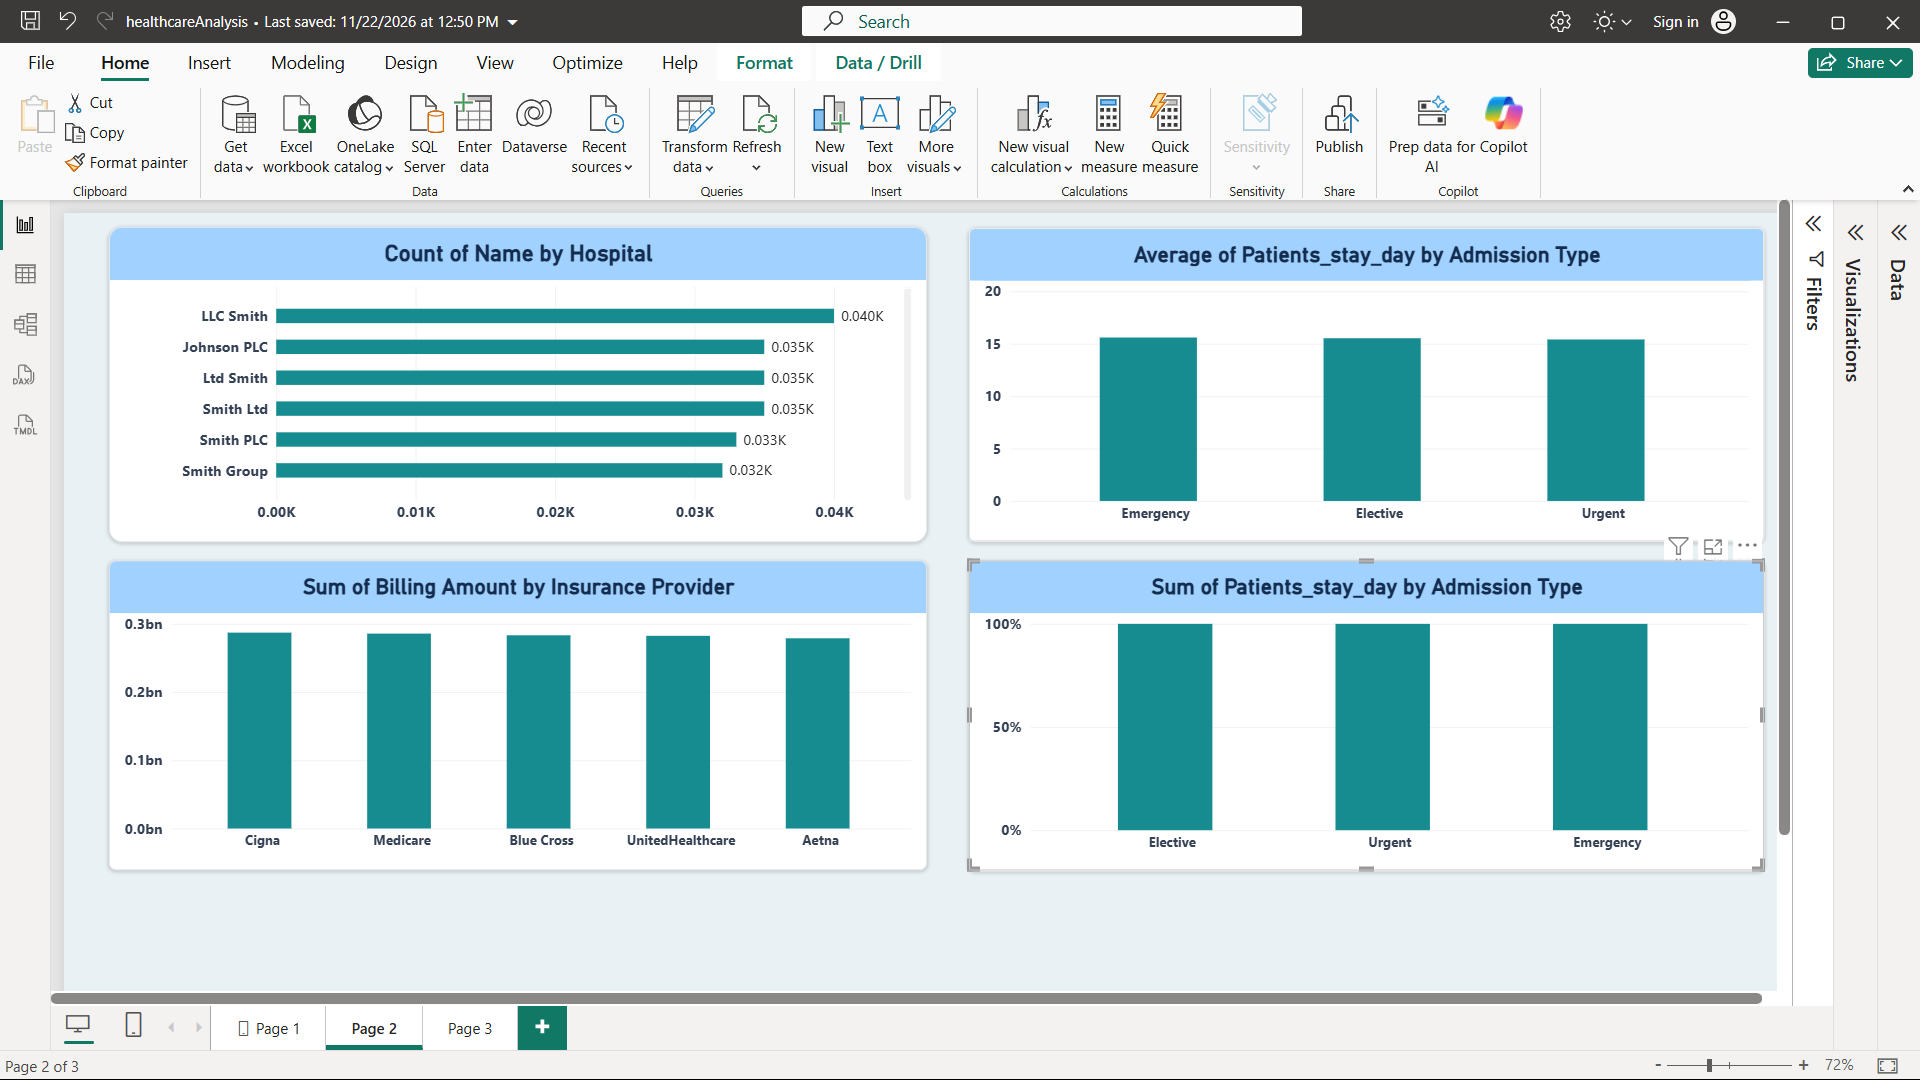

This screenshot's page, from the dashboard's own definition file:
{"tool":"powerbi","page":{"name":"Page 2","canvas":[1920,1080],"ordinal":1},"visuals":[{"type":"barChart","fields":{"Category":["healthcare_dataset.Hospital"],"Y":["Count(healthcare_dataset.Name)"]},"box":[50.6,15.7,908.7,350.6],"z":0},{"type":"clusteredColumnChart","fields":{"Category":["healthcare_dataset.Insurance Provider"],"Y":["Sum(healthcare_dataset.Billing Amount)"]},"box":[50.6,385.5,908.7,343.6],"z":1},{"type":"hundredPercentStackedColumnChart","fields":{"Category":["healthcare_dataset.Admission Type"],"Y":["Sum(healthcare_dataset.Patients_stay_day)"]},"box":[50.6,743,908.7,314],"z":2},{"type":"columnChart","fields":{"Category":["healthcare_dataset.Admission Type"],"Y":["Avg(healthcare_dataset.Patients_stay_day)"]},"box":[1039.5,15.7,849.4,350.6],"z":3}]}

Visuals, with their boxes on the page's 1920x1080 design canvas (x1, y1, x2, y2). These are canvas units, not pixel positions in the 1920x1080 screenshot, which may show the page scaled, cropped or inside an application window:
barChart - healthcare_dataset.Hospital x Count(healthcare_dataset.Name): bbox=[51, 16, 959, 366]
clusteredColumnChart - healthcare_dataset.Insurance Provider x Sum(healthcare_dataset.Billing Amount): bbox=[51, 386, 959, 729]
hundredPercentStackedColumnChart - healthcare_dataset.Admission Type x Sum(healthcare_dataset.Patients_stay_day): bbox=[51, 743, 959, 1057]
columnChart - healthcare_dataset.Admission Type x Avg(healthcare_dataset.Patients_stay_day): bbox=[1040, 16, 1889, 366]
